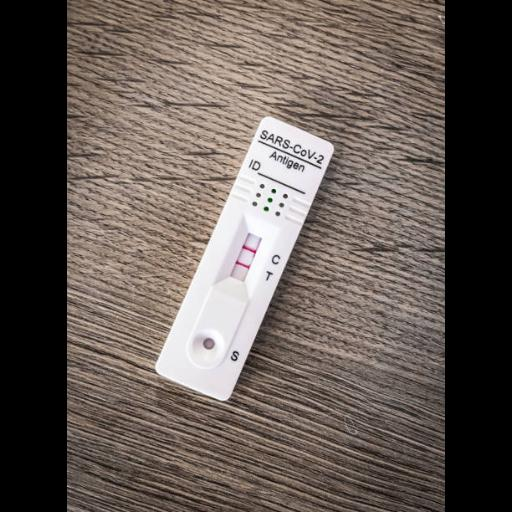Pos: (152, 113, 335, 405)
